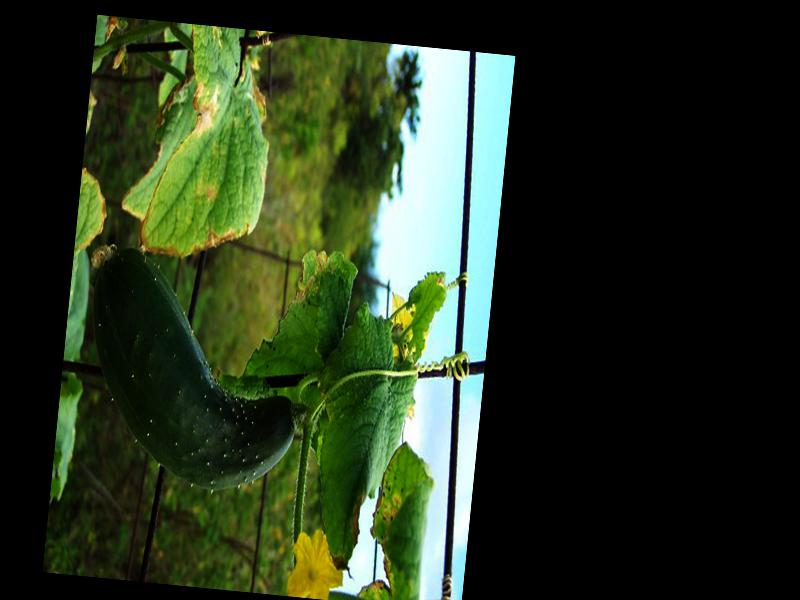Cucumber: (75, 241, 314, 494)
